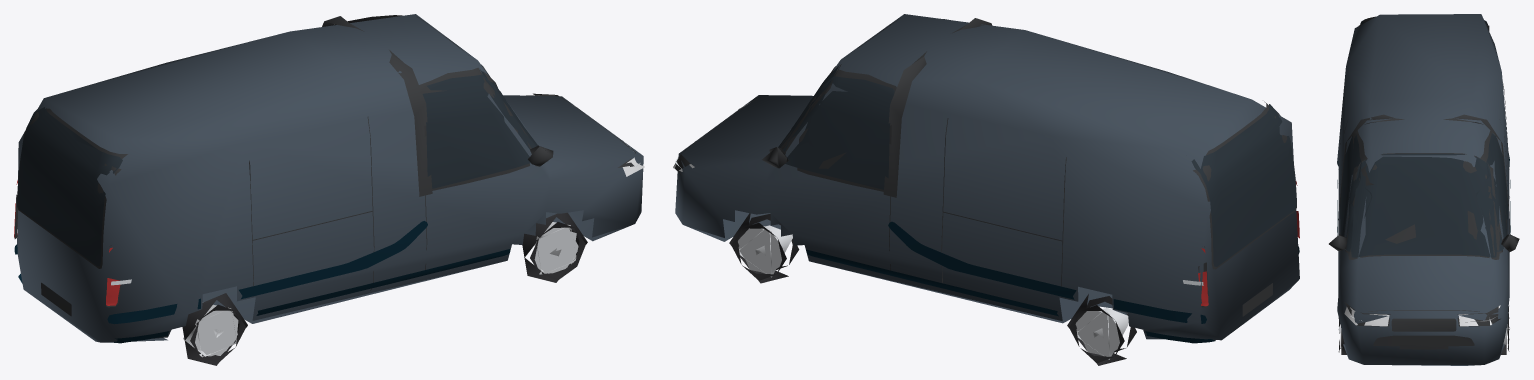
File: livr_bleu_ufar.glb
3 views of the same model, side by side, from view 1: azimuth 30°, elevation 25°; view 2: azimuth 150°, elevation 25°; view 3: azimuth 270°, elevation 25° (orthographic). The views are drawn at different scales.
Visible parts, largest first — view 1: Body, RearGlass, Glass-1, WheelFR, WheelRR, LbWave-1, Bpillar-1, LbSky-1, WinFrame-1, RgFrame; view 2: Body, RearGlass, Glass1, LbWave1, WheelRL, WheelFL, Bpillar1, LbSky1, WinFrame1, RgFrame; view 3: Body, Windshield, Glass-1, WsFrame, Glass1, Intake, Grille, HeadReflector, HeadBezel, WinFrame-1, WinFrame1, Bpillar1 (+4 smaller).
Boxes of the visible parts, <box> form: Body: <box>17,14,643,342</box>; RearGlass: <box>17,107,122,266</box>; Glass-1: <box>422,74,535,188</box>; WheelFR: <box>522,212,587,282</box>; WheelRR: <box>182,293,247,365</box>; LbWave-1: <box>107,221,427,324</box>; Bpillar-1: <box>389,50,432,196</box>; LbSky-1: <box>110,249,510,343</box>; WinFrame-1: <box>419,67,531,190</box>; RgFrame: <box>17,108,127,268</box>; Body: <box>675,14,1299,340</box>; RearGlass: <box>1191,104,1296,266</box>; Glass1: <box>783,76,894,189</box>; LbWave1: <box>888,221,1206,323</box>; WheelRL: <box>1067,294,1136,365</box>; WheelFL: <box>729,213,799,283</box>; Bpillar1: <box>883,51,926,197</box>; LbSky1: <box>806,249,1215,343</box>; WinFrame1: <box>782,69,896,191</box>; RgFrame: <box>1193,101,1296,269</box>; Body: <box>1337,14,1509,365</box>; Windshield: <box>1351,153,1496,257</box>; Glass-1: <box>1340,135,1372,251</box>; WsFrame: <box>1348,153,1499,259</box>; Glass1: <box>1475,133,1507,251</box>; Intake: <box>1373,335,1474,346</box>; Grille: <box>1391,318,1456,331</box>; HeadReflector: <box>1344,305,1500,326</box>; HeadBezel: <box>1344,302,1500,326</box>; WinFrame-1: <box>1340,131,1373,253</box>; WinFrame1: <box>1480,131,1507,253</box>; Bpillar1: <box>1443,114,1508,209</box>.
Bounding box in the file's own units: 5.62 × 2.31 × 2.14.
